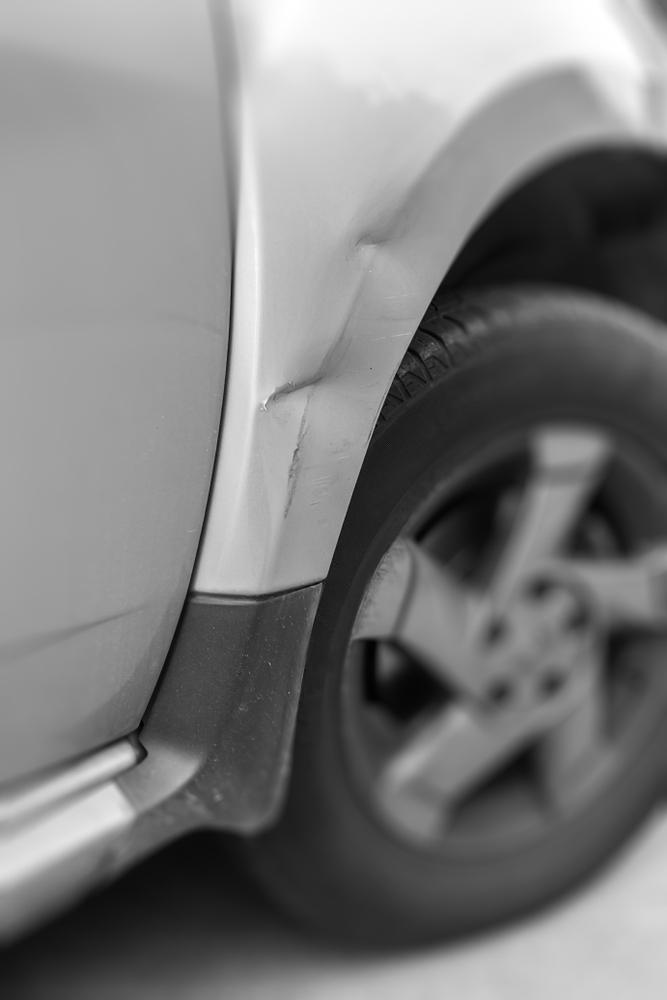dent: (252, 200, 466, 553)
